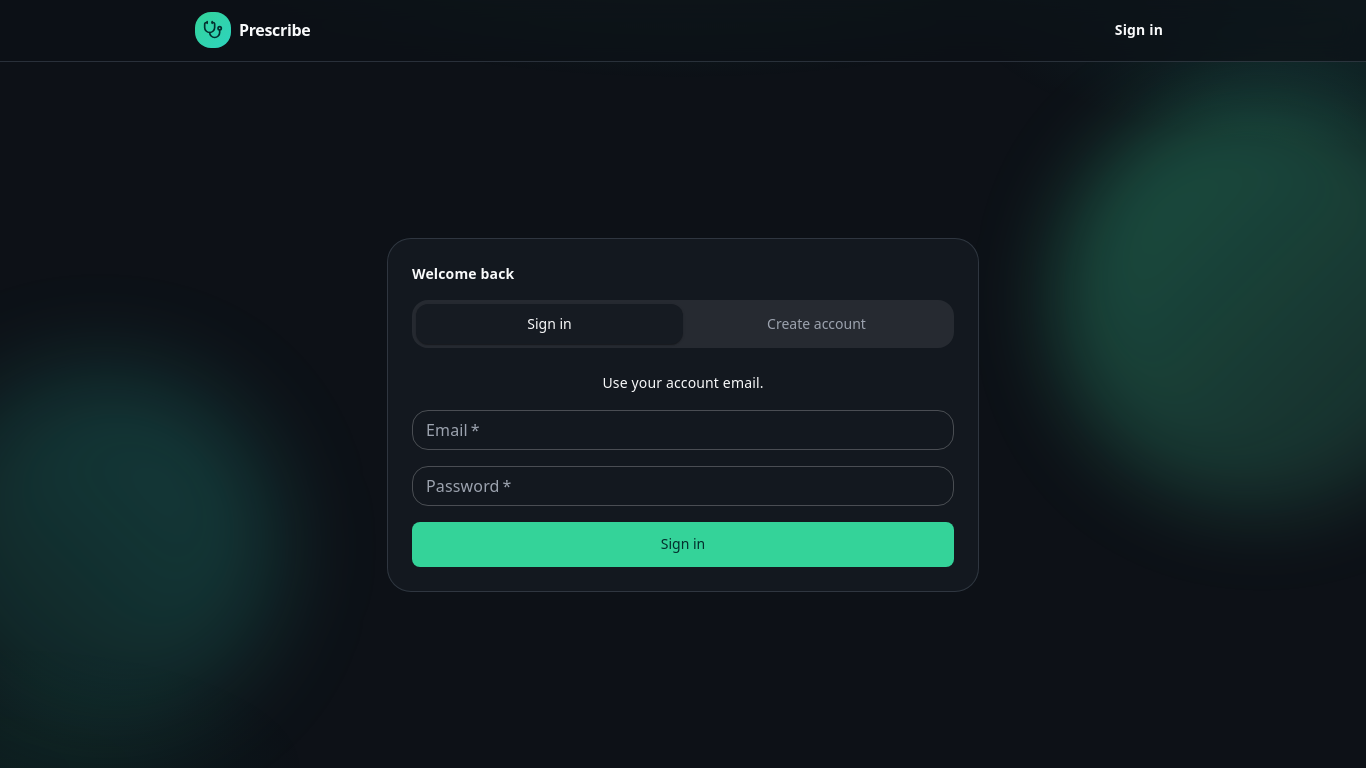
Test: AuthPage › switches to signup from the tab and shows the signup submit control
Click the button "Create account" at (816, 324), box [683,304,950,344]
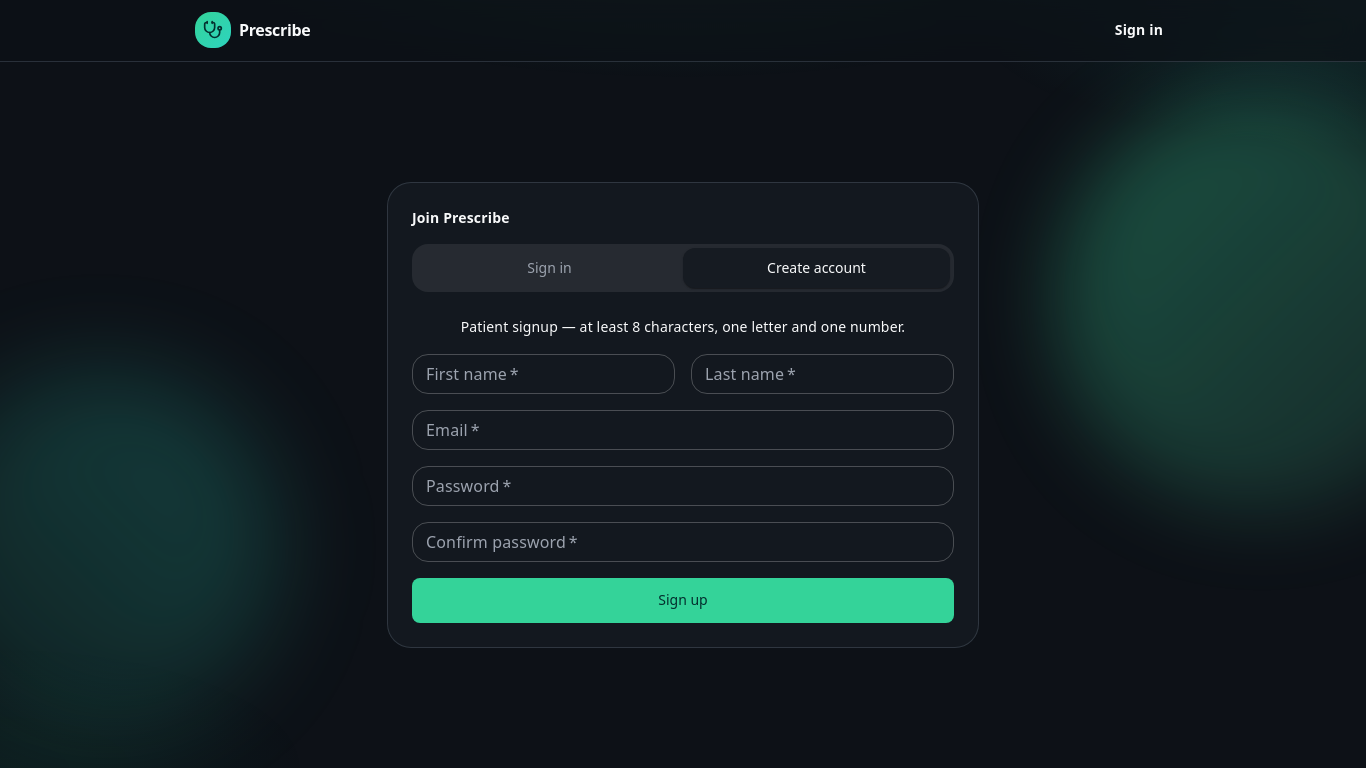
Now the button "Sign up" is shown, box [412,578,954,623]
